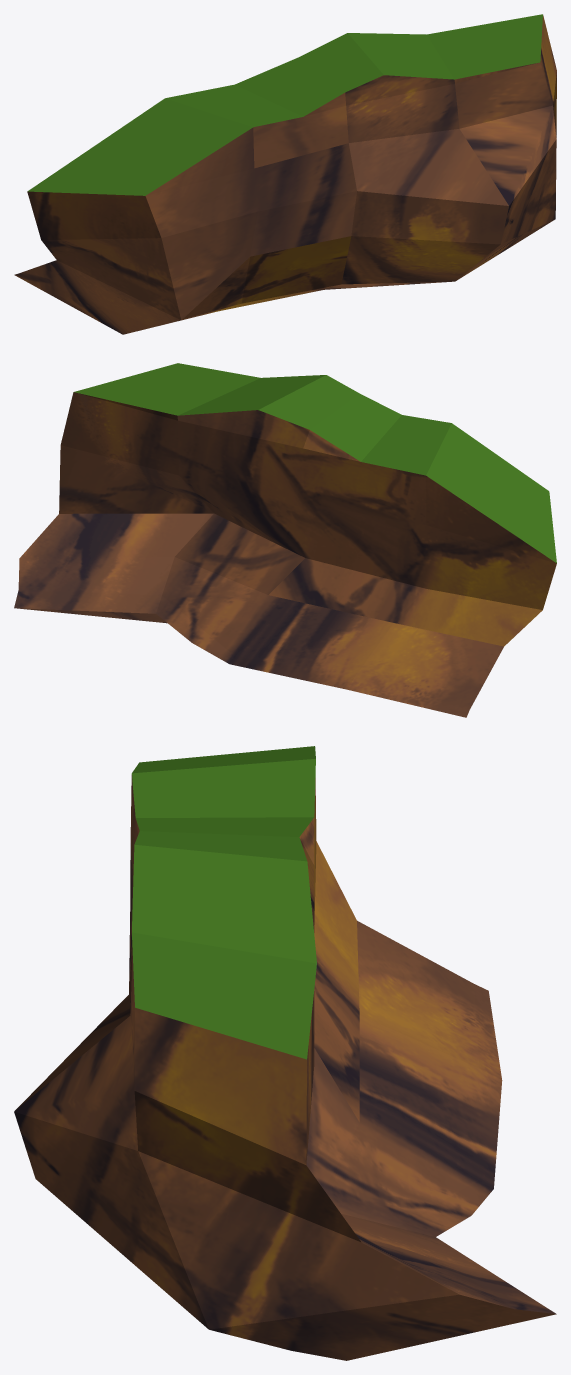
The model's file is sali73.obj.
The picture shows the model from 3 angles, top to bottom: view 1: azimuth 30°, elevation 25°; view 2: azimuth 150°, elevation 25°; view 3: azimuth 270°, elevation 25°; orthographic projection. The views are drawn at different scales.
Parts seen in each view (by area): view 1: Cube.010_Cube.011; view 2: Cube.010_Cube.011; view 3: Cube.010_Cube.011.
Boxes of the visible parts, box(x1,y1,x2,y2) form: Cube.010_Cube.011: box(14, 14, 556, 334); Cube.010_Cube.011: box(14, 363, 556, 717); Cube.010_Cube.011: box(14, 746, 556, 1360).
Bounding box in the file's own units: 82.03 × 37.89 × 45.87.
Materials: 1 (1 with a texture image).
